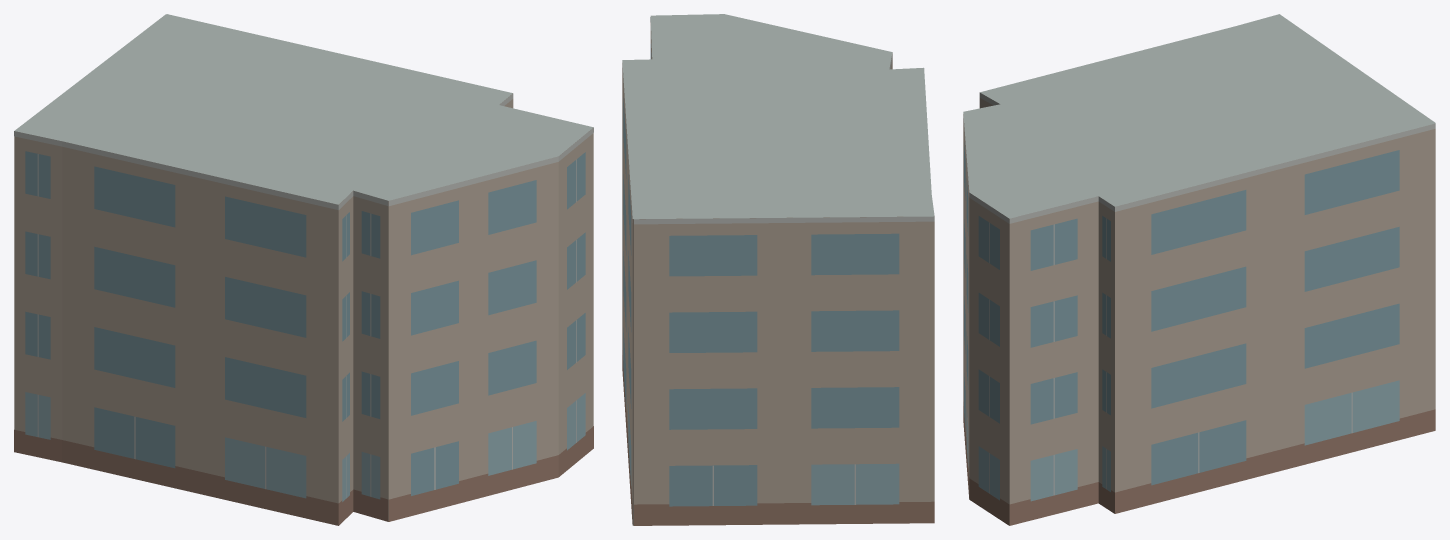
The model's file is survey-upis-32682338.glb.
3 views of the same model, side by side, from view 1: azimuth 30°, elevation 25°; view 2: azimuth 150°, elevation 25°; view 3: azimuth 270°, elevation 25° (orthographic). The views are drawn at different scales.
Parts seen in each view (by area): view 1: survey-upis-32682338.tmp; view 2: survey-upis-32682338.tmp; view 3: survey-upis-32682338.tmp.
Part boxes in pixels (x1=…): survey-upis-32682338.tmp: x1=14, y1=14, x2=593, y2=525; survey-upis-32682338.tmp: x1=622, y1=14, x2=934, y2=525; survey-upis-32682338.tmp: x1=963, y1=14, x2=1435, y2=525.
Bounding box in the file's own units: 20.59 × 14.4 × 20.08.
